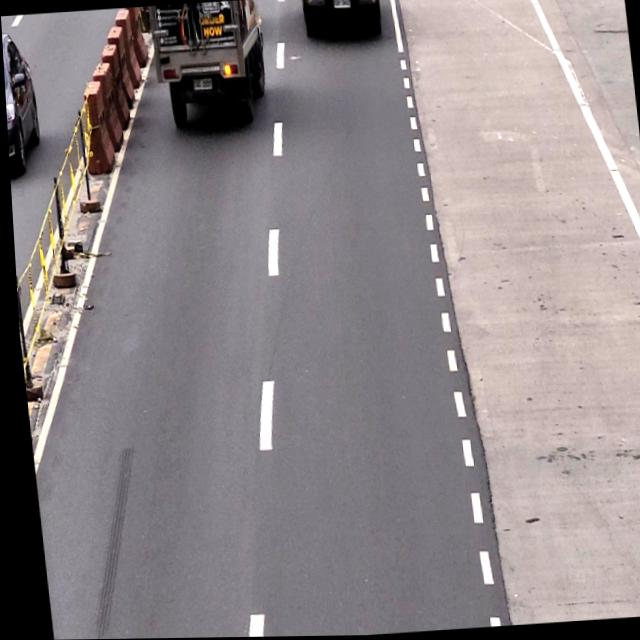License-Plate: (191, 79, 213, 92)
Truck: (150, 0, 271, 128)
